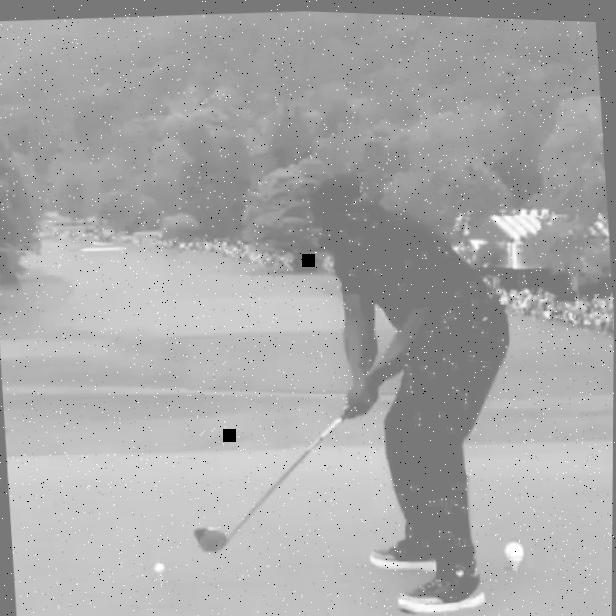ClubHead: (194, 523, 228, 551)
GolfBall: (153, 561, 165, 573)
